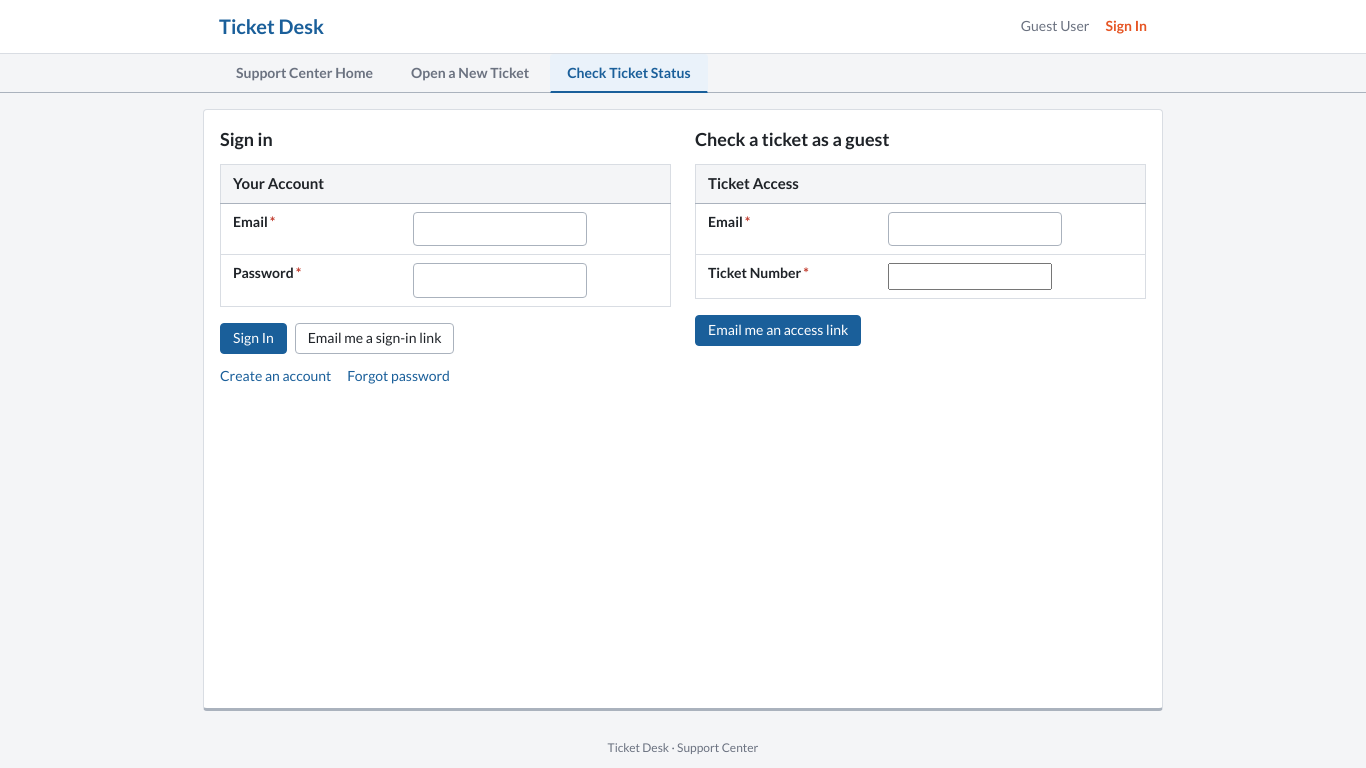
password sign-in returns to the page in state.from
The width and height of the screenshot is (1366, 768).
expect the heading "Sign in" is shown: met, box [220,128,273,150]
Type "pat@example.test" into the field labelled "Email*" below "Your Account" at (500, 229), box [412,212,586,246]
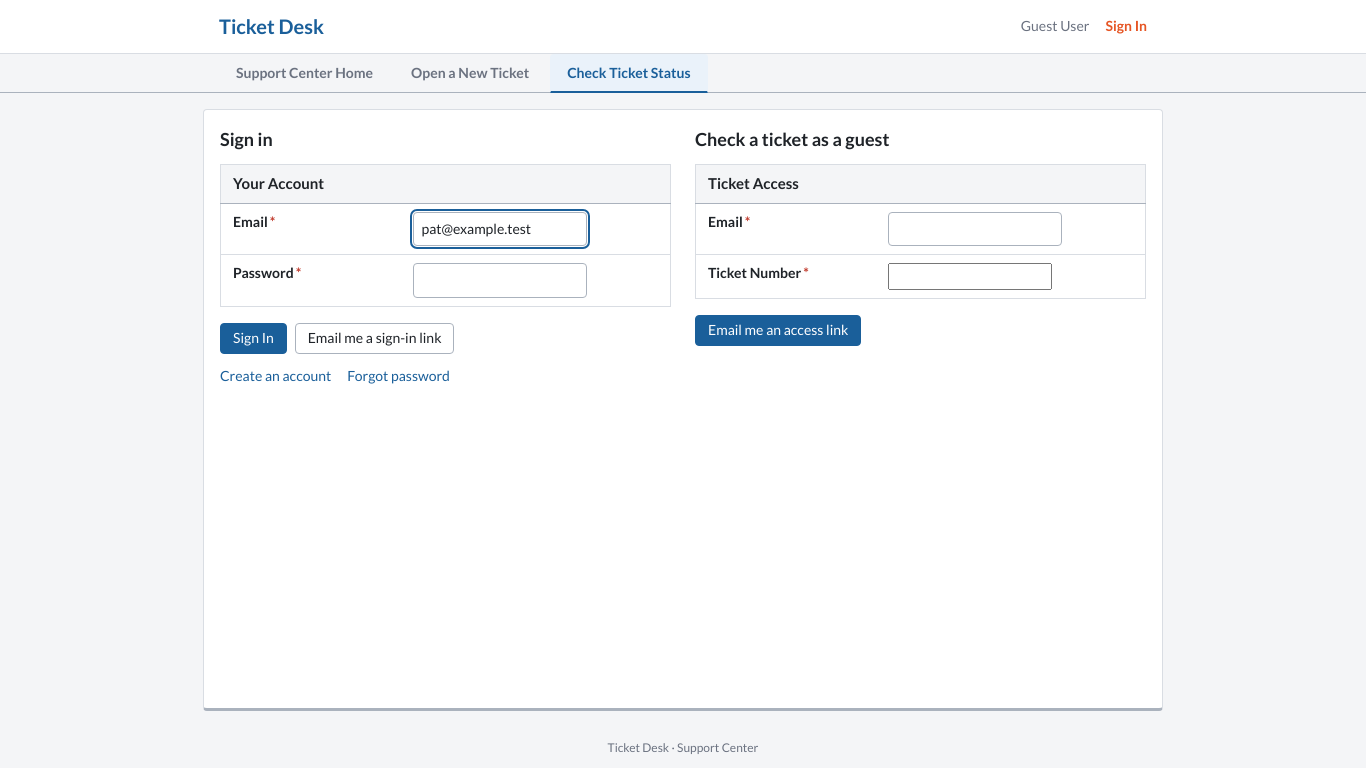
Type "secret123" into the password field labelled "Password*" at (500, 281), box [412,263,586,298]
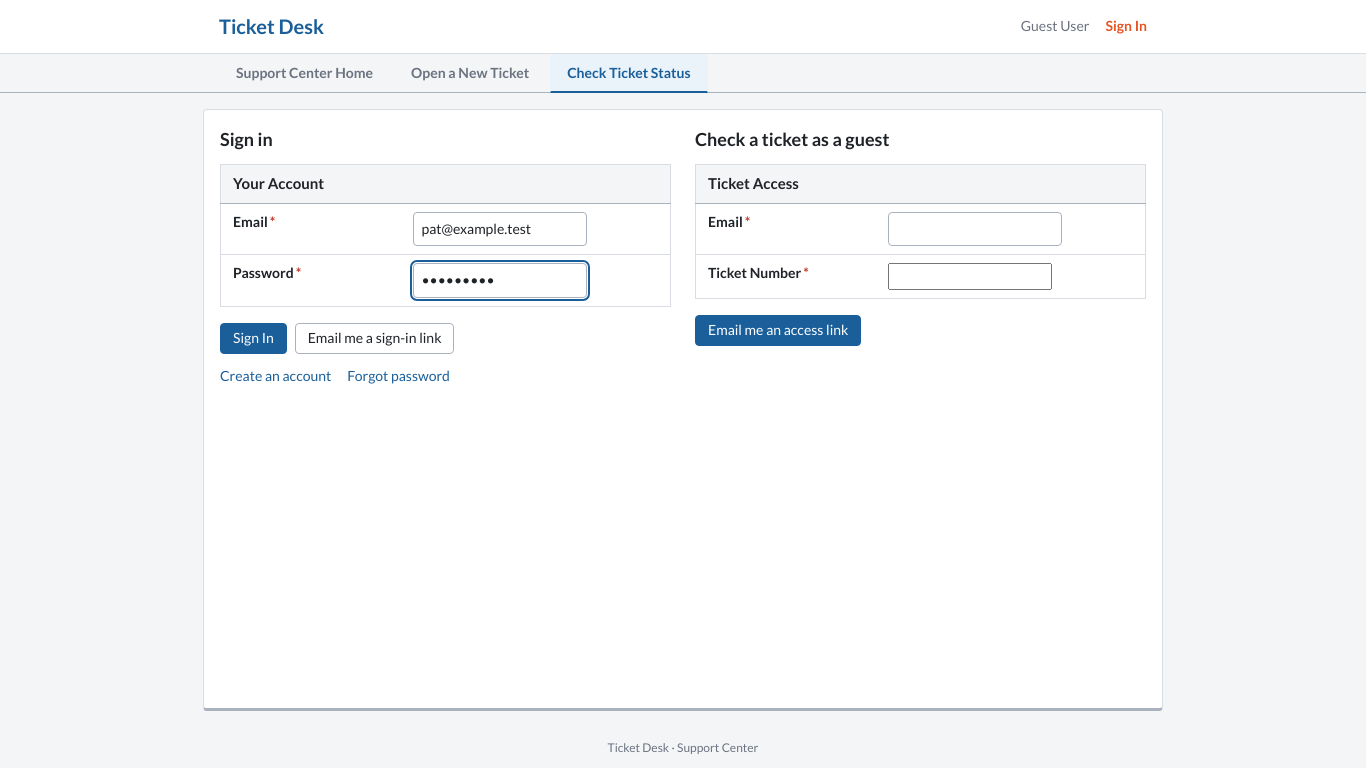
Click the button "Sign In" at (253, 338), box [220,323,287,354]
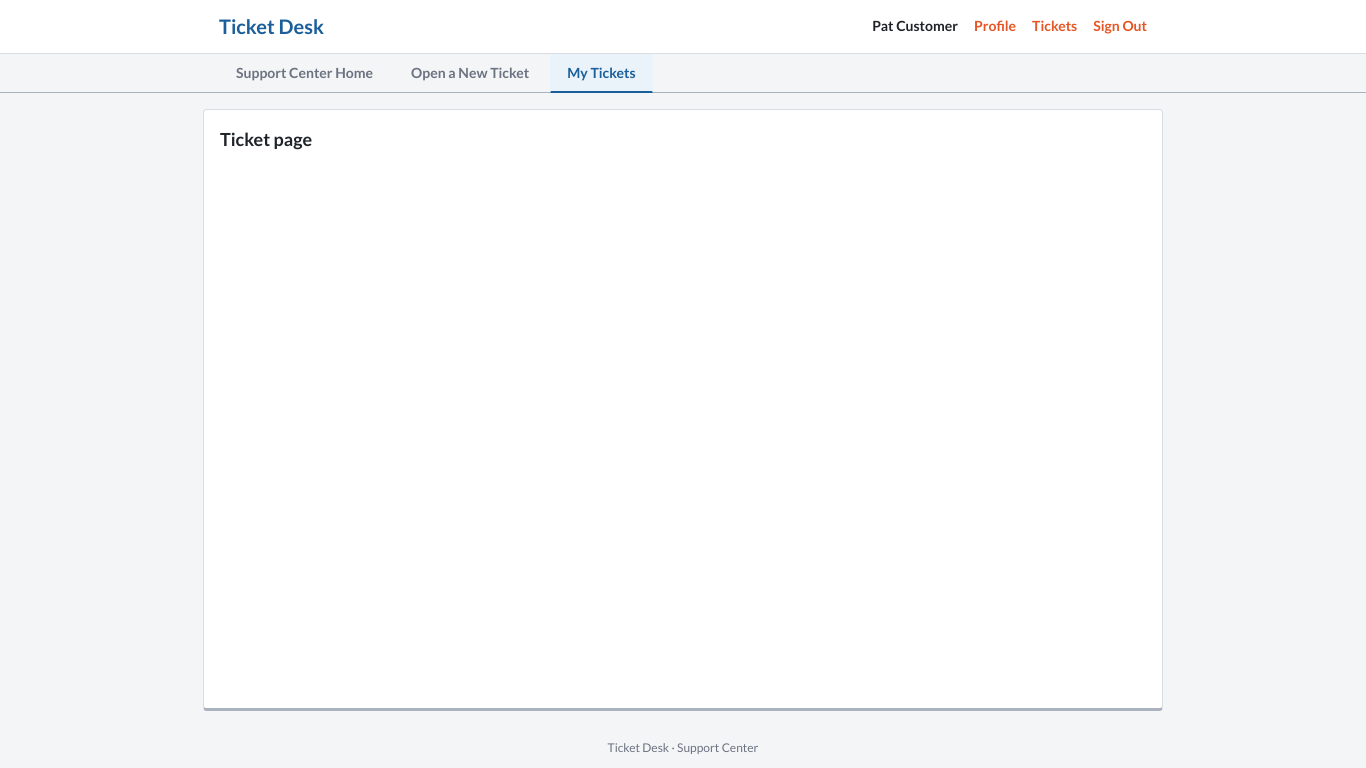
expect the heading "Ticket page" is shown: met, box [220,128,312,150]
